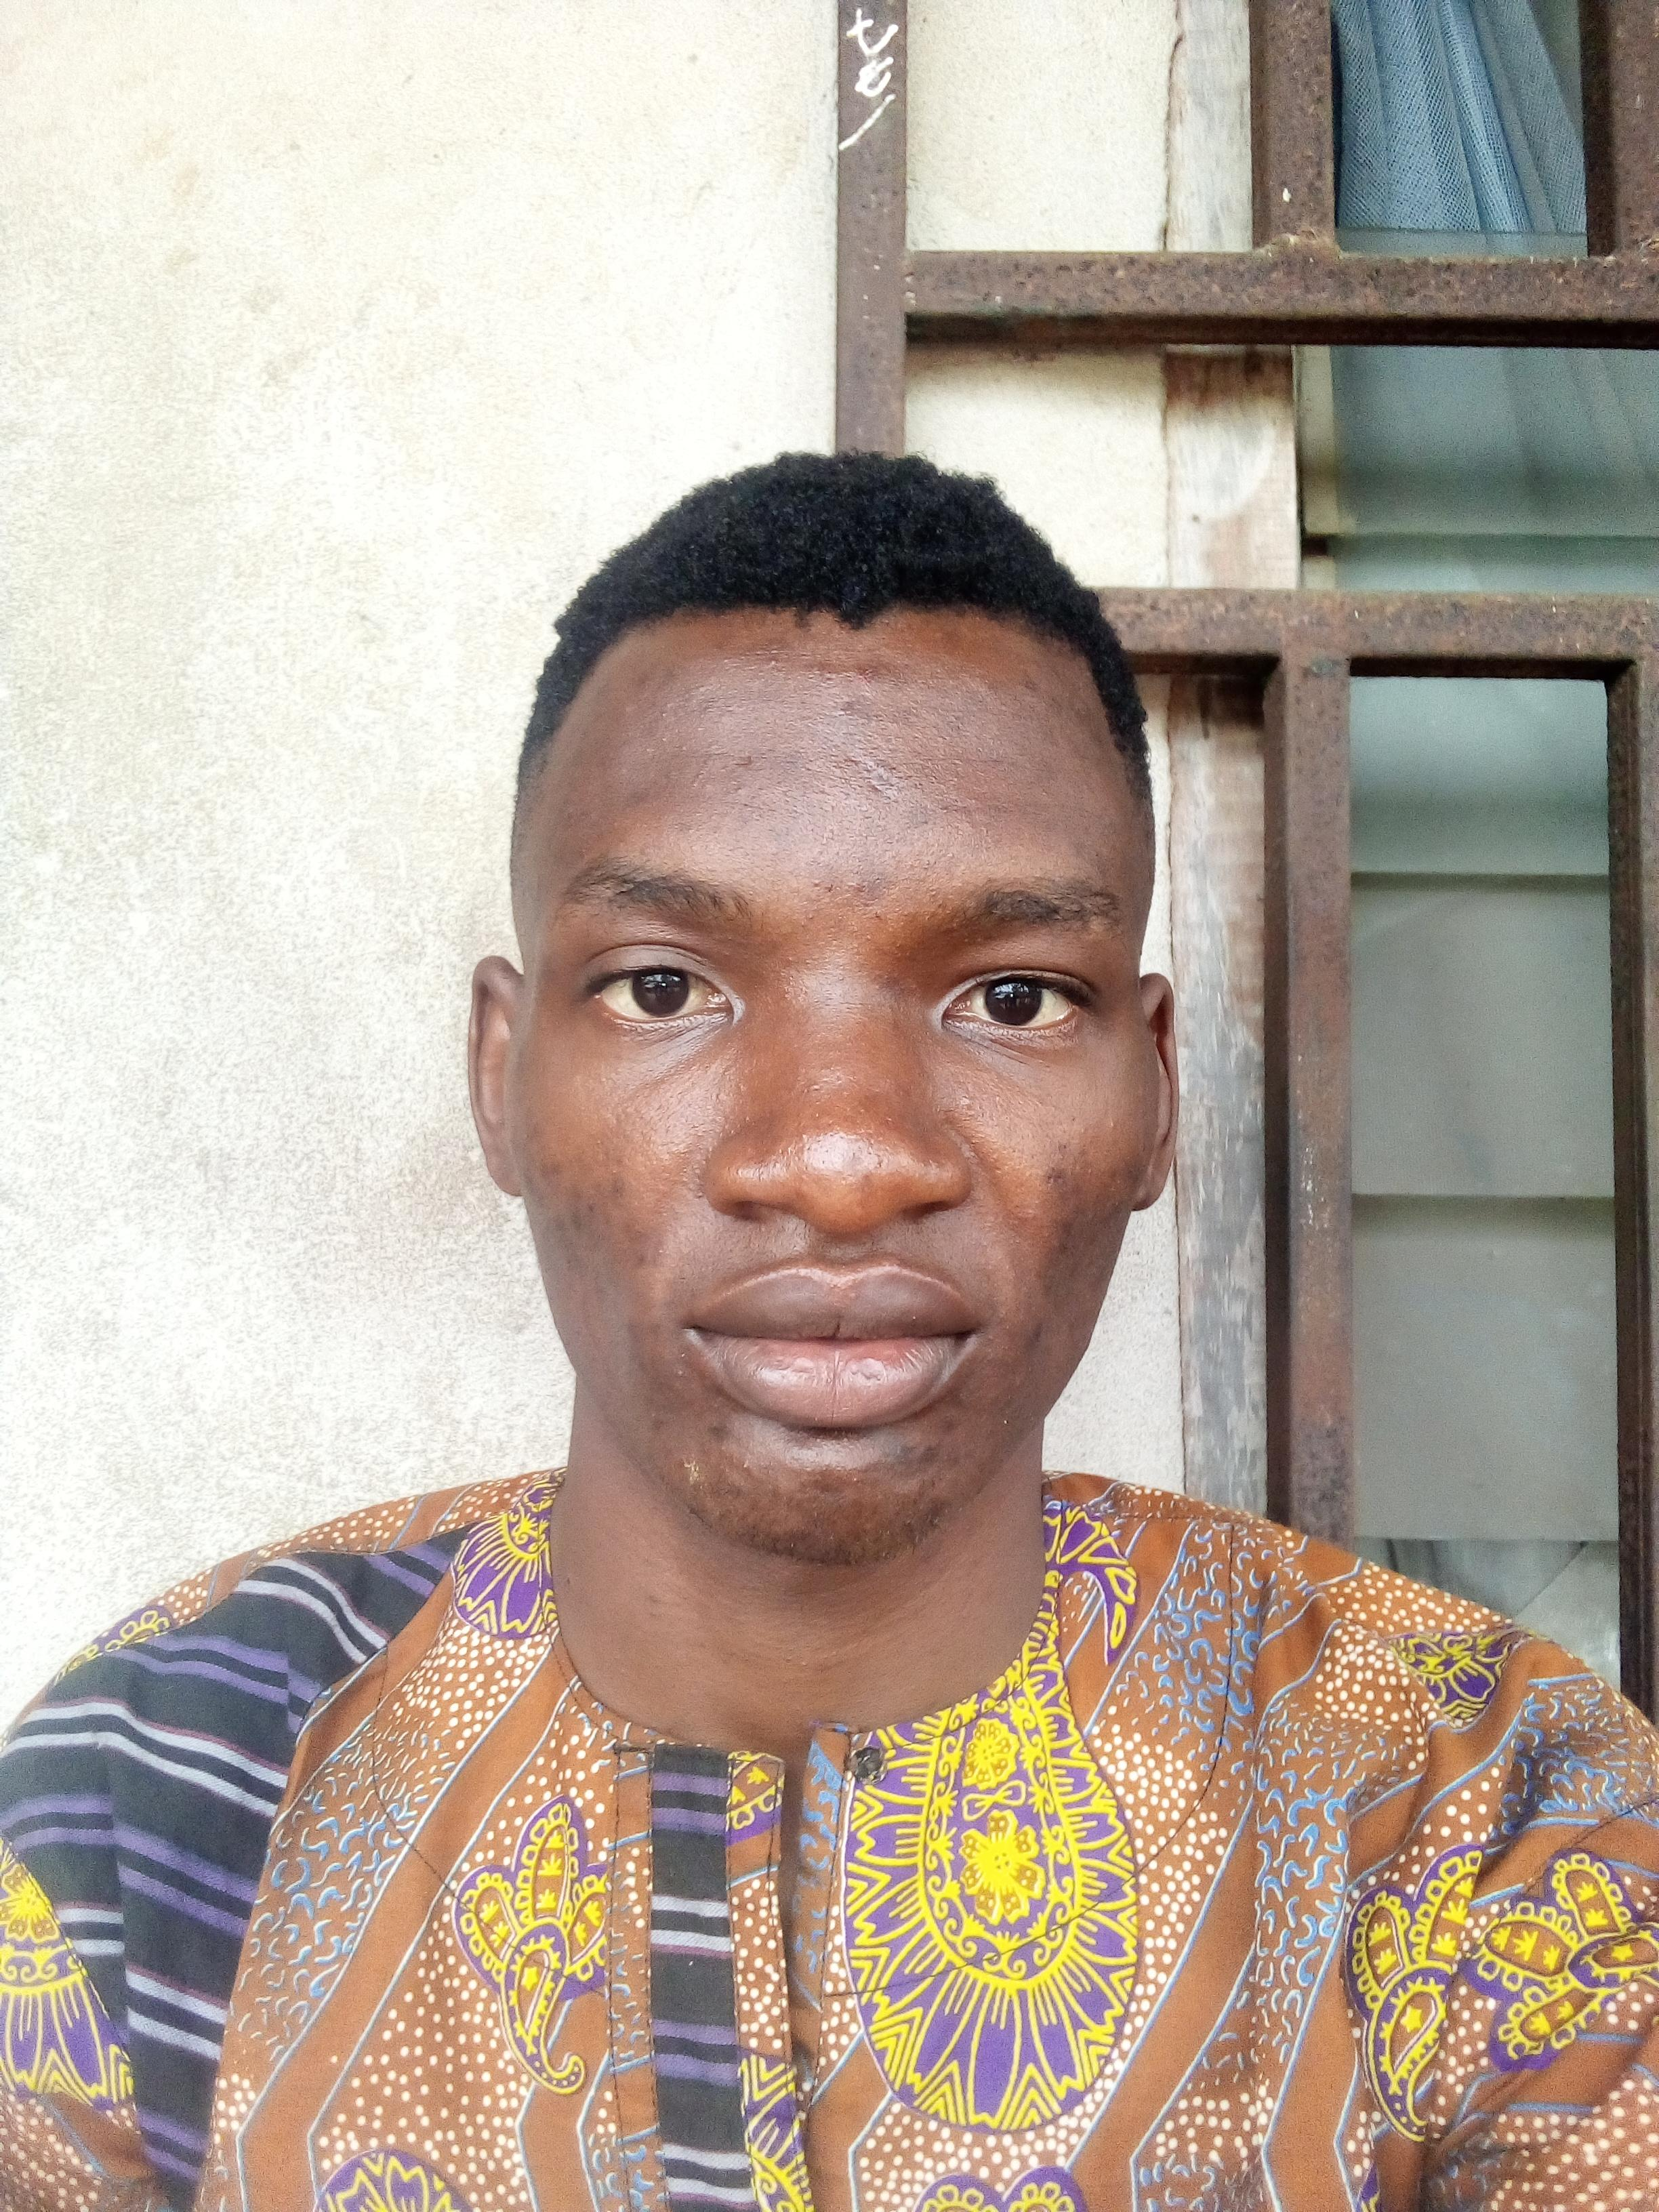Acne: (838, 742, 917, 803), (514, 1106, 568, 1191), (1040, 1134, 1093, 1205), (880, 1430, 969, 1470), (547, 1186, 601, 1251), (849, 853, 908, 909), (1089, 1165, 1140, 1230), (1047, 1200, 1087, 1273), (598, 1136, 634, 1209), (669, 1451, 720, 1498), (612, 779, 666, 817), (1014, 1313, 1053, 1357), (728, 641, 802, 664), (620, 1219, 652, 1270), (802, 874, 831, 927), (807, 1470, 852, 1501), (626, 662, 673, 691), (662, 819, 711, 846), (704, 1421, 741, 1456), (859, 1150, 896, 1183), (561, 1231, 589, 1273), (831, 693, 875, 718), (727, 752, 770, 775), (1016, 671, 1051, 695), (647, 1409, 678, 1435), (622, 1310, 643, 1345), (845, 664, 890, 679), (1101, 1113, 1124, 1137)
Englarged-Pores: (610, 1061, 713, 1158), (758, 796, 929, 845), (784, 1082, 871, 1174), (960, 1066, 1028, 1170)
